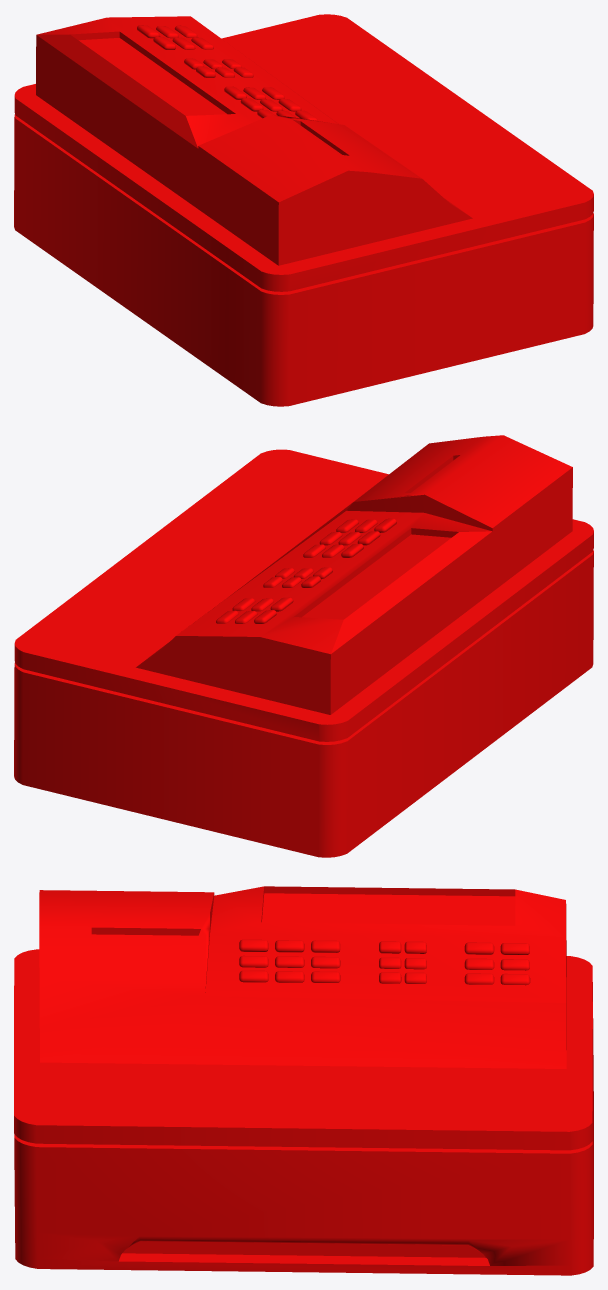
Rendered from CashRigester.fbx.
3 views of the same model, one above another, from view 1: azimuth 30°, elevation 25°; view 2: azimuth 150°, elevation 25°; view 3: azimuth 270°, elevation 25° (orthographic). The views are drawn at different scales.
Parts seen in each view (by area): view 1: Rigester; view 2: Rigester; view 3: Rigester.
Part boxes in pixels (x1,y1,x2,y2): Rigester: (14, 14, 593, 406); Rigester: (14, 435, 593, 857); Rigester: (14, 886, 593, 1275).
Bounding box in the file's own units: 11.67 × 7.3 × 16.25.
